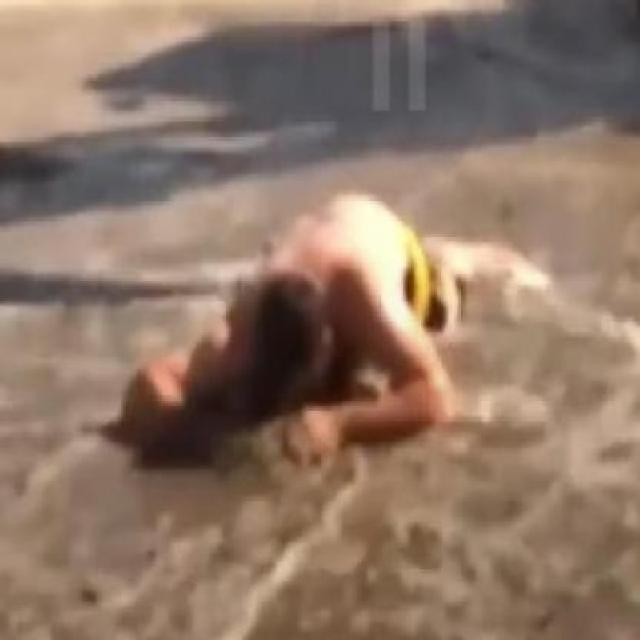fall: (130, 188, 470, 464)
